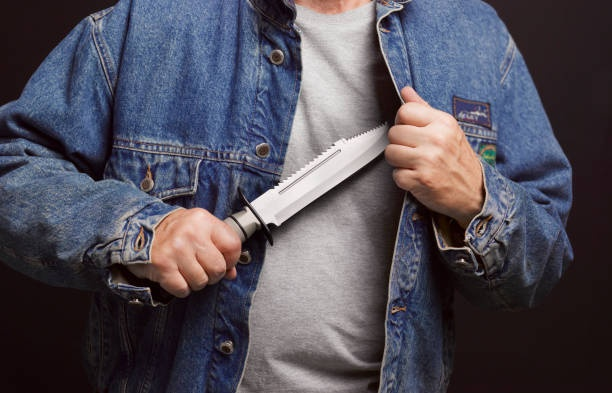knife: (158, 121, 393, 298)
